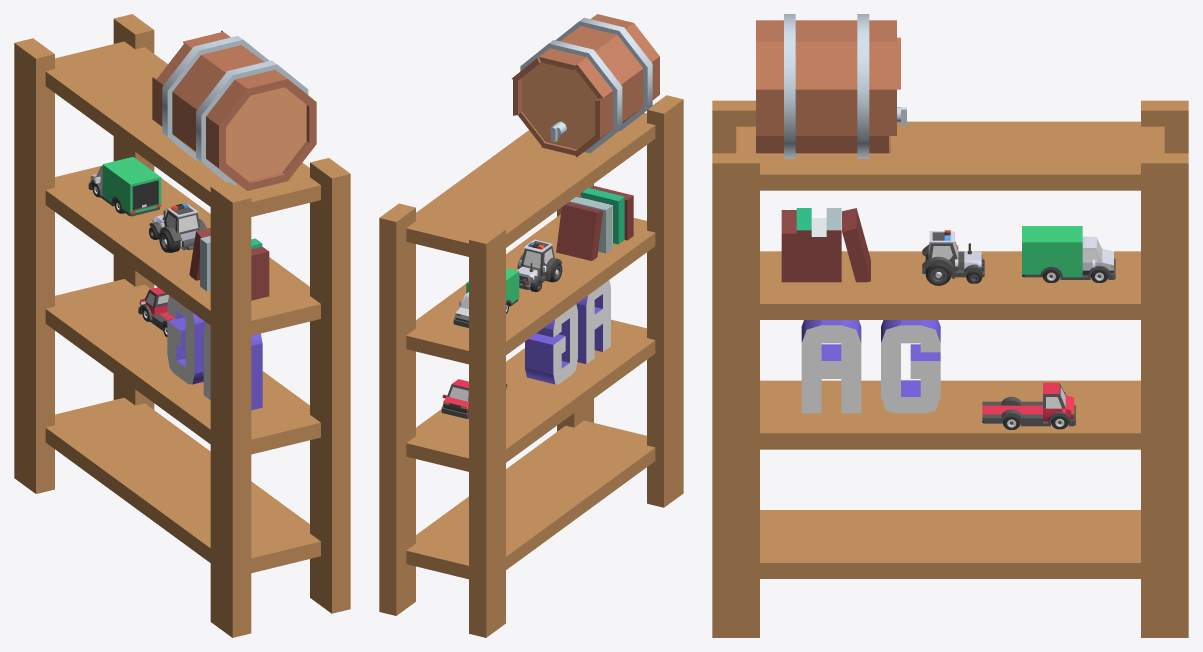
3 renders of one model, left to right at view 1: azimuth 30°, elevation 25°; view 2: azimuth 150°, elevation 25°; view 3: azimuth 270°, elevation 25°, orthographic. The views are drawn at different scales.
Parts seen in each view (by area): view 1: mergedBlocks(Clone); view 2: mergedBlocks(Clone); view 3: mergedBlocks(Clone).
Boxes of the visible parts, box(x1,y1,x2,y2) form: mergedBlocks(Clone): box(14, 14, 350, 637); mergedBlocks(Clone): box(379, 14, 683, 637); mergedBlocks(Clone): box(712, 14, 1188, 637).
Bounding box in the file's own units: 0.375 × 1.61 × 1.2.
